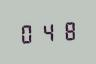eight: (57, 19, 75, 42)
four: (38, 20, 56, 43)
zero: (18, 22, 36, 44)
